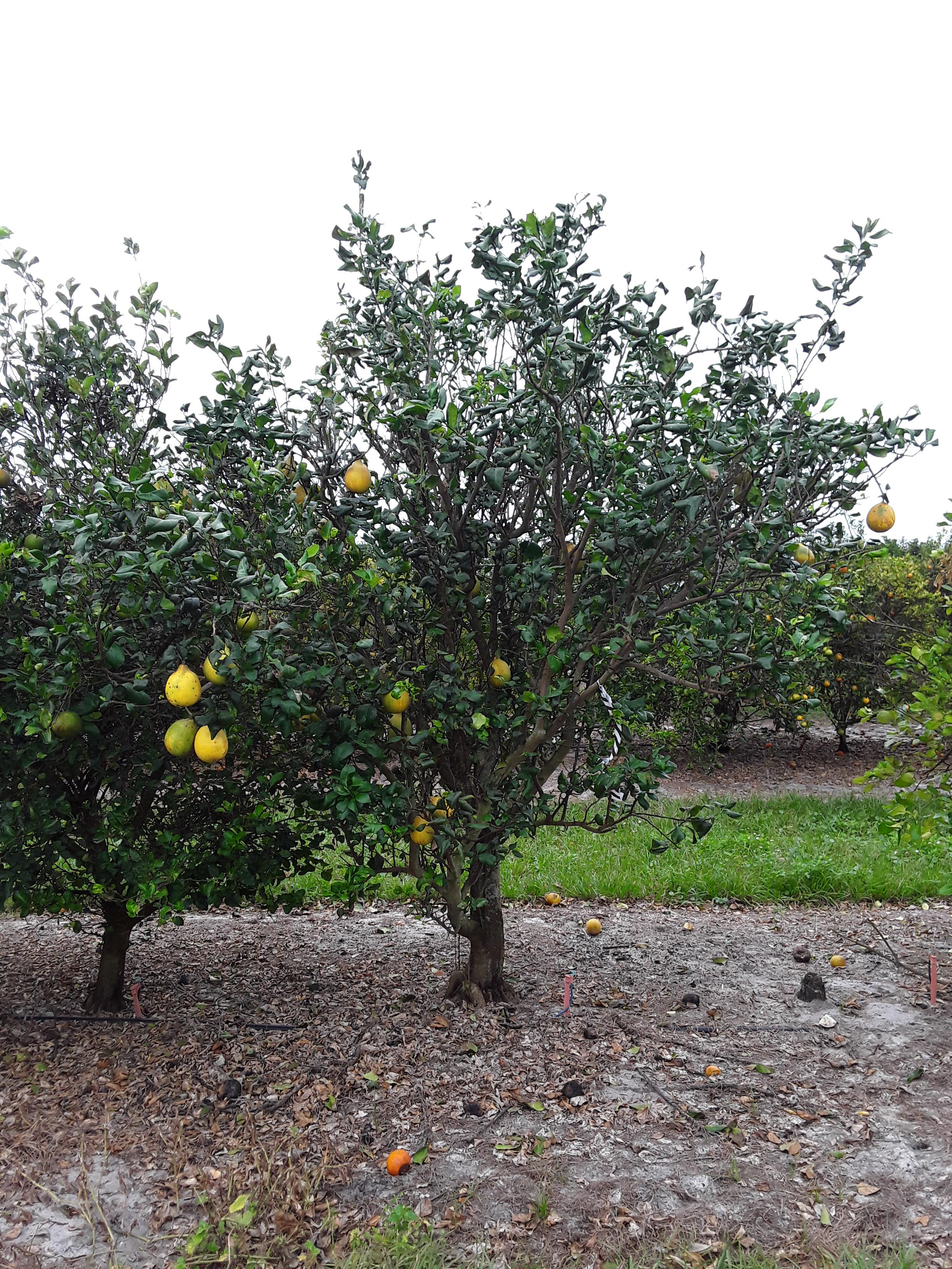fruit_on_ground: (163, 661, 203, 707), (163, 715, 200, 759), (193, 723, 230, 764), (199, 649, 237, 686), (48, 707, 85, 742), (141, 476, 179, 510), (865, 500, 899, 535), (558, 539, 590, 573), (342, 460, 372, 495), (231, 608, 264, 639), (406, 815, 438, 846), (450, 568, 483, 598), (484, 655, 513, 689), (385, 713, 416, 744), (381, 683, 413, 713), (275, 450, 306, 480), (286, 481, 317, 508), (427, 793, 457, 820), (292, 706, 324, 730), (792, 542, 818, 567), (174, 486, 197, 512), (21, 530, 46, 551), (849, 438, 870, 458), (0, 463, 12, 490), (835, 561, 850, 576), (791, 692, 802, 703), (861, 696, 872, 706), (710, 696, 720, 707), (834, 651, 844, 662), (806, 684, 816, 694), (822, 678, 831, 688), (837, 727, 846, 736), (850, 684, 859, 692), (824, 648, 832, 657), (821, 645, 830, 653), (795, 713, 803, 721), (800, 720, 807, 729), (906, 571, 914, 578)
fruit_on_tree: (384, 1146, 415, 1178), (217, 1075, 243, 1101), (562, 1077, 586, 1099), (461, 1099, 485, 1119), (790, 944, 813, 963), (584, 915, 603, 936), (681, 989, 701, 1007), (543, 888, 562, 906), (704, 1062, 722, 1078), (829, 952, 847, 968), (764, 741, 774, 749), (835, 749, 845, 757), (788, 759, 797, 767)
